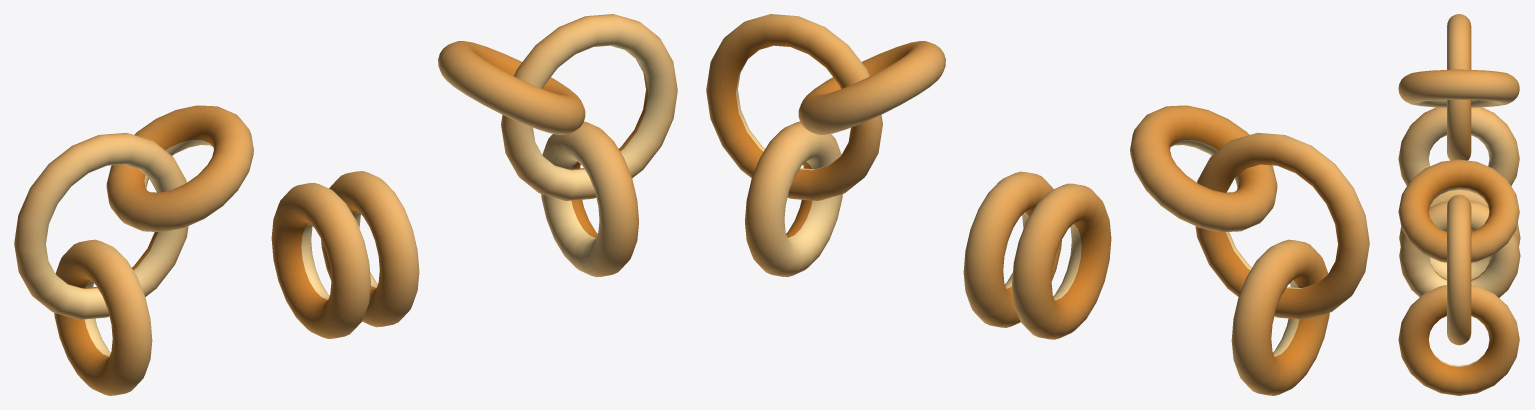
Rendered from hashigo_m_a.fbx.
3 views of the same model, side by side, from view 1: azimuth 30°, elevation 25°; view 2: azimuth 150°, elevation 25°; view 3: azimuth 270°, elevation 25° (orthographic). The views are drawn at different scales.
Visible parts, largest first — view 1: t3; view 2: t3; view 3: t3.
Boxes of the visible parts, x1=… form: t3: x1=14, y1=14, x2=677, y2=395; t3: x1=706, y1=14, x2=1369, y2=395; t3: x1=1398, y1=14, x2=1520, y2=395.
Size of the model in its own units: 19.09 by 7.03 by 4.02.
